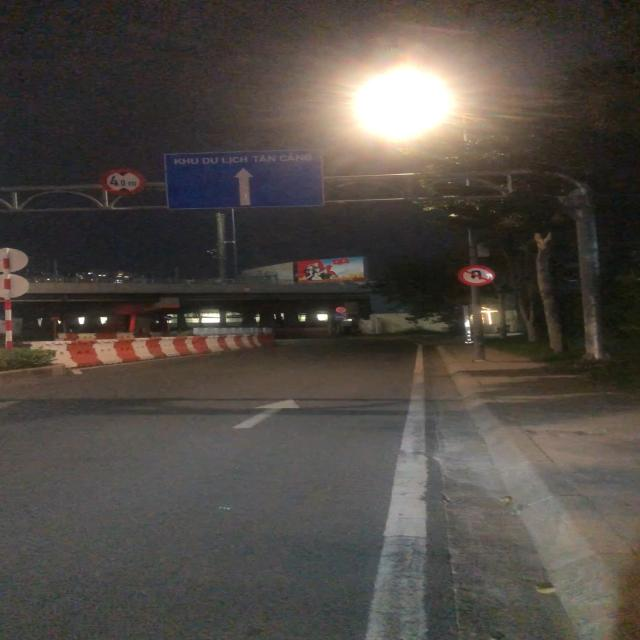Bien bao cam quay dau xe: (456, 263, 498, 287)
Bien bao han che chieu cao: (99, 167, 152, 198)
